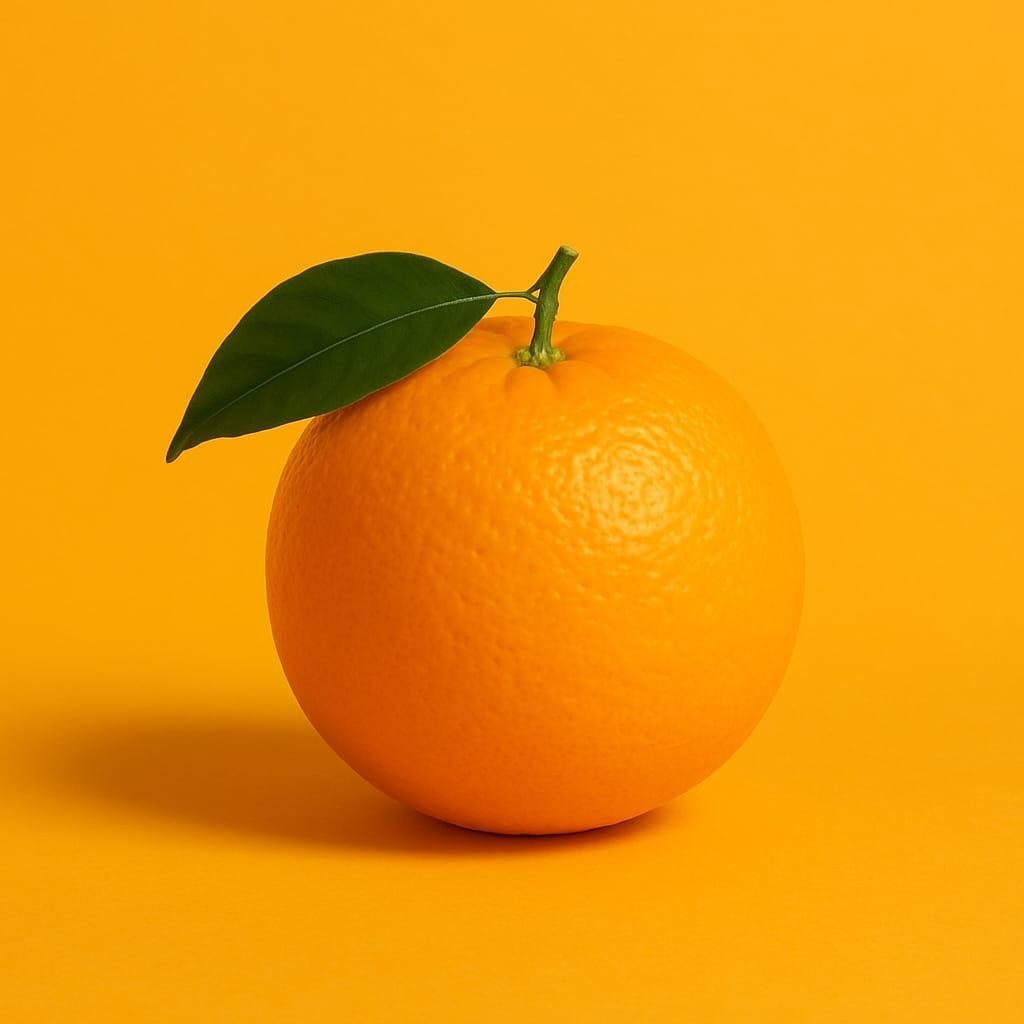non-mango: (261, 293, 807, 838)
